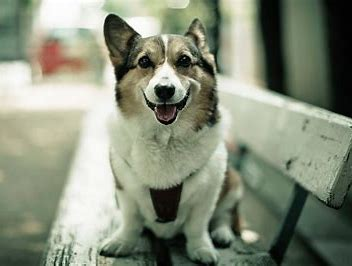dog: (80, 14, 276, 262)
